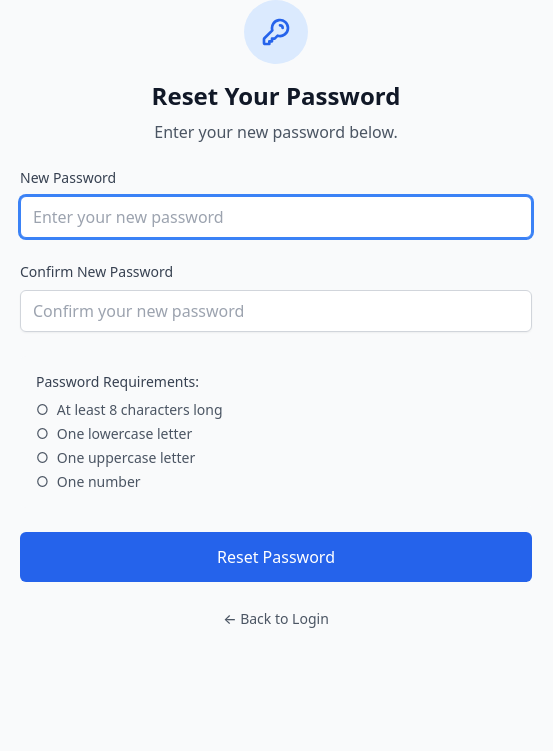
Scenario: ResetPassword Component › Form Validation › shows error for passwords that do not match
Type "NewPassword123" into the password field labelled "New Password" at {"x": 276, "y": 217}, box x1=20 y1=196 x2=532 y2=238
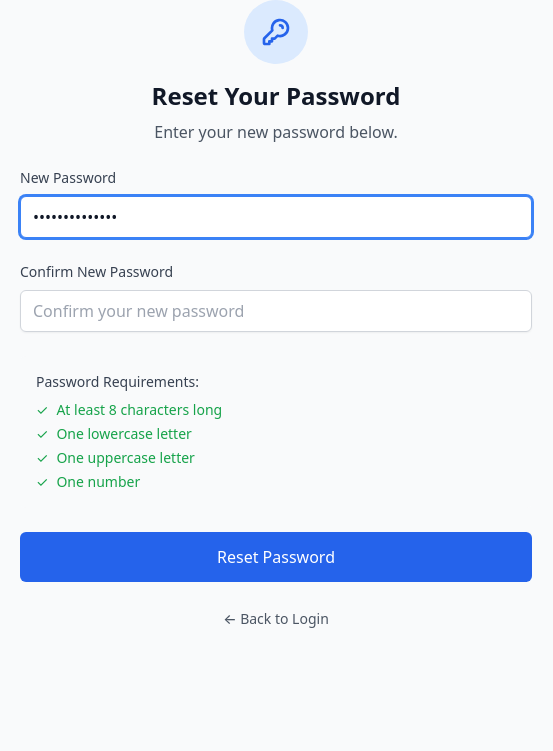
Type "DifferentPassword123" into the password field labelled "Confirm New Password" at {"x": 276, "y": 311}, box x1=20 y1=290 x2=532 y2=332
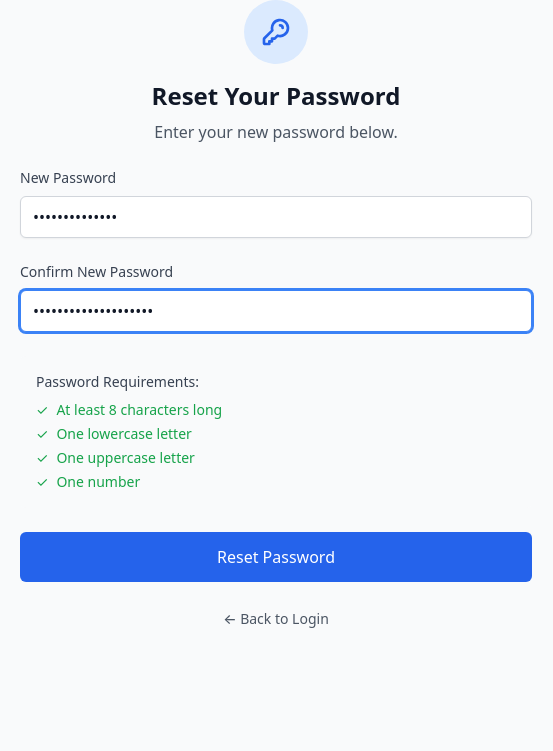
Click the button "Reset Password" at {"x": 276, "y": 557}, box x1=20 y1=532 x2=532 y2=582
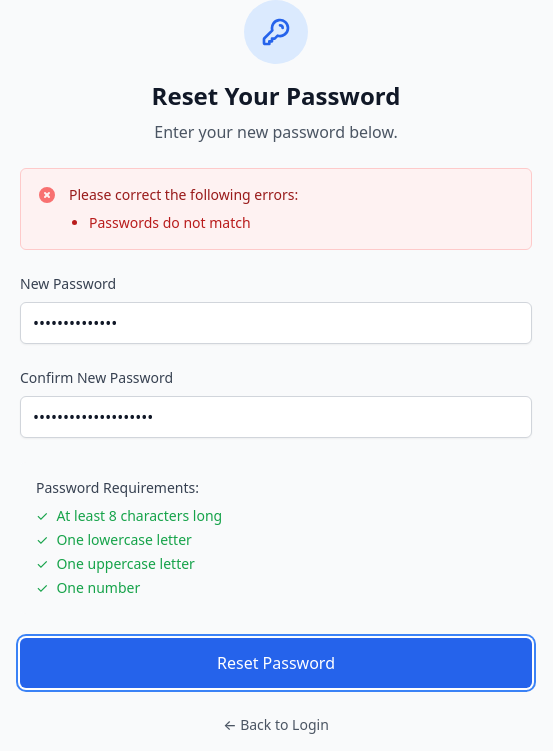
Check: the list item "Passwords do not match" is shown, box x1=89 y1=213 x2=251 y2=232
